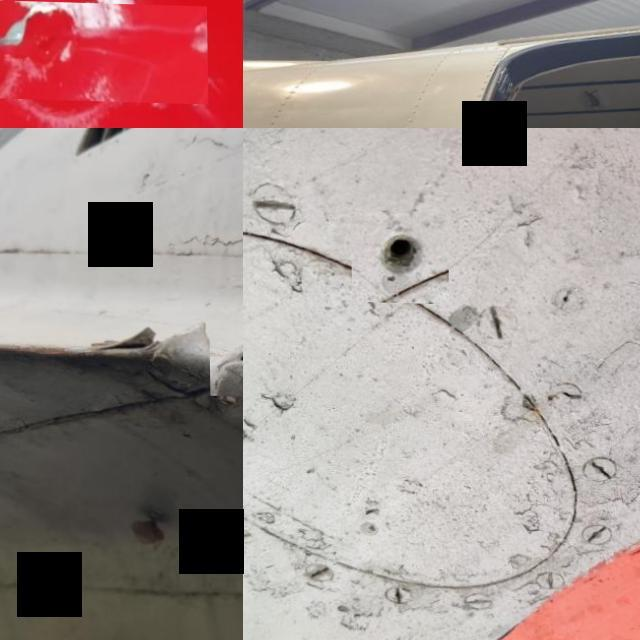Crack: (0, 0, 207, 101), (70, 294, 214, 379), (208, 318, 243, 396)
Missing_Fastener: (351, 208, 448, 303)
